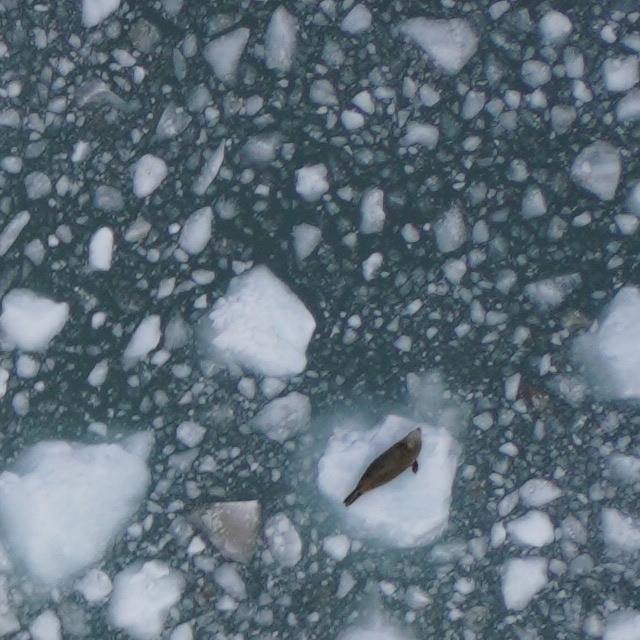seal: (337, 424, 427, 511)
